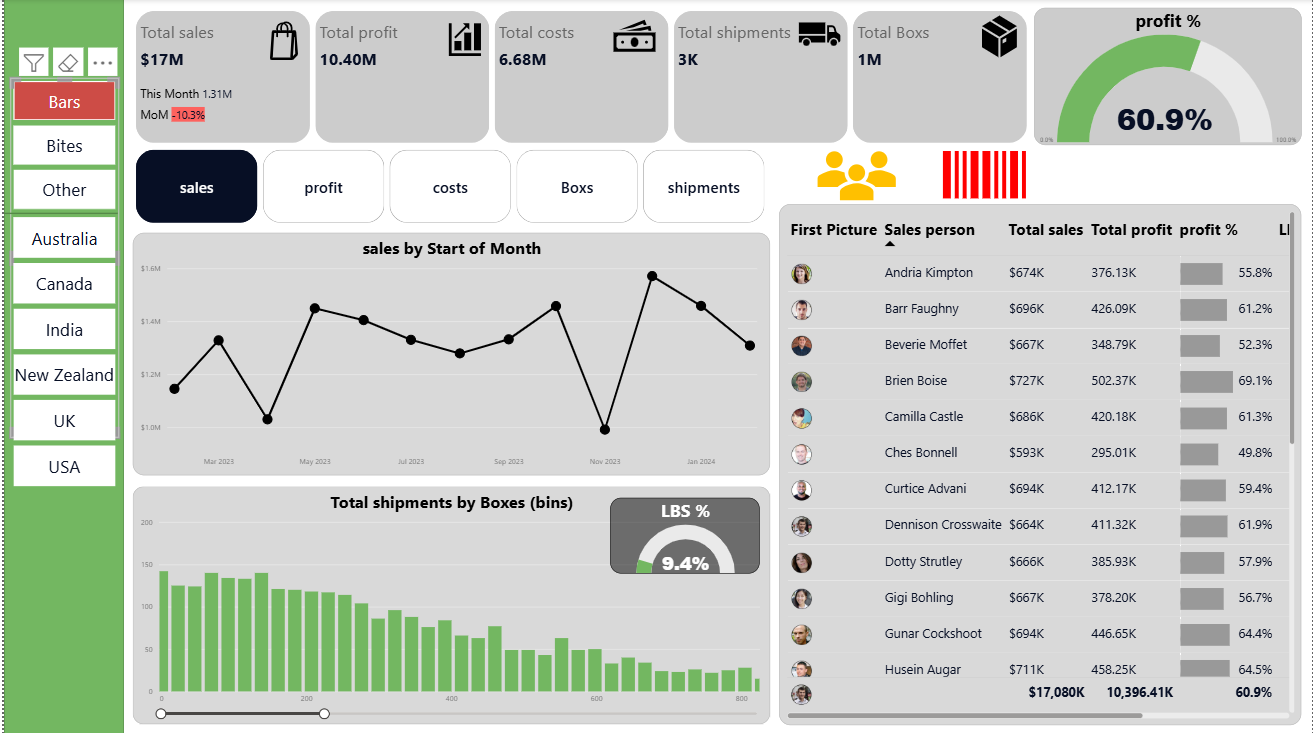

The page's visual inventory and layout, read from the dashboard file:
{"tool":"powerbi","page":{"name":"sales_report_dashboard","canvas":[1920,1080],"ordinal":0},"visuals":[{"type":"cardVisual","fields":{"Data":["_measures.Total sales","_measures.Total profit","_measures.Total costs","_measures.Total shipments","_measures.Total Boxs"]},"box":[188.9,12.8,1320.7,203.6],"z":0},{"type":"gauge","fields":{"Y":["_measures.profit %"]},"box":[1511.4,12.8,392.5,201.8],"z":1000},{"type":"advancedSlicerVisual","fields":{"Values":["Measure Selector.Measure Selector"]},"box":[188.9,216.4,935.5,117.4],"z":2000},{"type":"lineChart","fields":{"Y":["_measures.Total sales"],"Category":["calendar.Start of Month"]},"box":[188.9,343,935.5,355.8],"z":3000},{"type":"clusteredColumnChart","fields":{"Category":["shipments.Boxes (bins)"],"Y":["_measures.Total shipments"]},"box":[188.9,715.4,935.5,348.5],"z":4000},{"type":"gauge","fields":{"Y":["_measures.LBS %"]},"box":[889.1,732.6,219.6,110.9],"z":5000},{"type":"tableEx","title":"people detials","fields":{"Values":["Min(people.Picture)","people.Sales person","_measures.Total sales","_measures.Total profit","_measures.profit %","_measures.LBS %","_measures.Profit Target Indicator"]},"box":[1137.8,300,766.7,764.4],"z":6000},{"type":"image","box":[588.8,22,174.3,75.2],"z":8000},{"type":"image","box":[277,25.7,267.8,71.5],"z":9000},{"type":"image","box":[849.3,16.5,152.2,77],"z":10000},{"type":"image","box":[1137.2,12.8,119.2,77],"z":11000},{"type":"image","box":[1386.7,12.8,148.6,84.4],"z":12000},{"type":"image","title":"people icon","box":[1158.8,188.2,184.3,141.2],"z":13000},{"type":"image","title":"product icon","box":[1343.1,184.3,192.2,149],"z":14000},{"type":"shape","box":[0,0,176.1,1080.4],"z":15000},{"type":"listSlicer","fields":{"Values":["products.Category"]},"box":[9.2,115.6,159.6,528.3],"z":16000},{"type":"listSlicer","fields":{"Values":["locations.Geo"]},"box":[9.2,315.5,159.6,542.9],"z":17000},{"type":"shape","box":[0,275.1,166.9,78.9],"z":18000}]}

Visuals, with their boxes in screenshot pixels (x1, y1, x2, y2), scaled from the page's 1920x1080 canvas onto the 1313x733 screenshot:
cardVisual - _measures.Total sales x _measures.Total profit: <bbox>129, 9, 1032, 147</bbox>
gauge - _measures.profit %: <bbox>1034, 9, 1302, 146</bbox>
advancedSlicerVisual - Measure Selector.Measure Selector: <bbox>129, 147, 769, 227</bbox>
lineChart - _measures.Total sales x calendar.Start of Month: <bbox>129, 233, 769, 474</bbox>
clusteredColumnChart - shipments.Boxes (bins) x _measures.Total shipments: <bbox>129, 486, 769, 722</bbox>
gauge - _measures.LBS %: <bbox>608, 497, 758, 572</bbox>
"people detials" tableEx: <bbox>778, 204, 1302, 722</bbox>
image: <bbox>403, 15, 522, 66</bbox>
image: <bbox>189, 17, 373, 66</bbox>
image: <bbox>581, 11, 685, 63</bbox>
image: <bbox>778, 9, 859, 61</bbox>
image: <bbox>948, 9, 1050, 66</bbox>
"people icon" image: <bbox>792, 128, 918, 224</bbox>
"product icon" image: <bbox>918, 125, 1050, 226</bbox>
shape: <bbox>0, 0, 120, 732</bbox>
listSlicer - products.Category: <bbox>6, 78, 115, 437</bbox>
listSlicer - locations.Geo: <bbox>6, 214, 115, 583</bbox>
shape: <bbox>0, 187, 114, 240</bbox>
